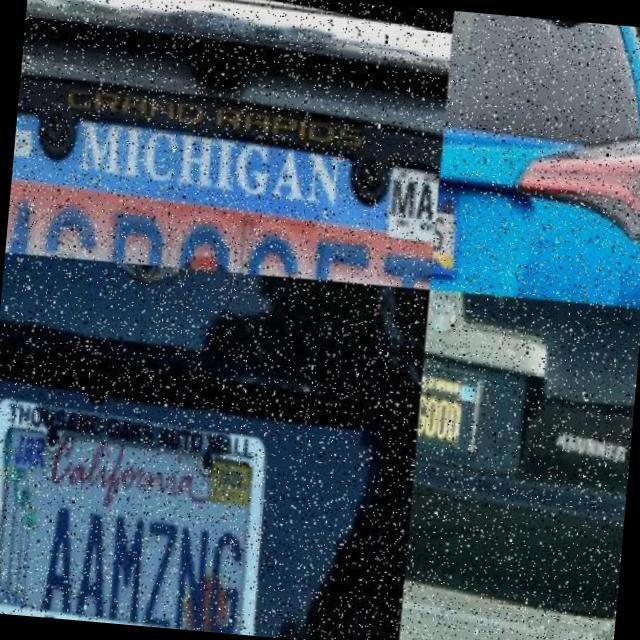License Plate: (5, 56, 447, 290), (0, 372, 272, 635), (415, 348, 487, 464), (430, 179, 463, 271)
